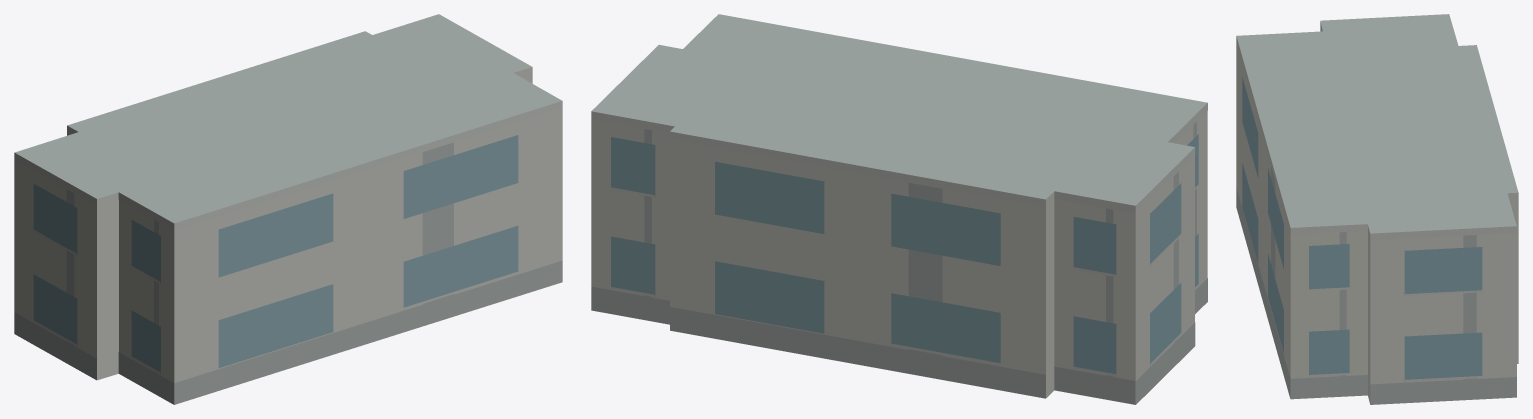
Rendered from residential-12ead752-bee3-406a-ae15-ba2ebe83ac95.glb.
The picture shows the model from 3 angles, left to right: view 1: azimuth 30°, elevation 25°; view 2: azimuth 150°, elevation 25°; view 3: azimuth 270°, elevation 25°; orthographic projection. The views are drawn at different scales.
Visible parts, largest first — view 1: residential-12ead752-bee3-406a-ae15-ba2ebe83ac95.tmp; view 2: residential-12ead752-bee3-406a-ae15-ba2ebe83ac95.tmp; view 3: residential-12ead752-bee3-406a-ae15-ba2ebe83ac95.tmp.
Part boxes in pixels (box(x1,y1,x2,y2)): residential-12ead752-bee3-406a-ae15-ba2ebe83ac95.tmp: box(14, 14, 562, 404); residential-12ead752-bee3-406a-ae15-ba2ebe83ac95.tmp: box(591, 14, 1207, 404); residential-12ead752-bee3-406a-ae15-ba2ebe83ac95.tmp: box(1236, 14, 1518, 404).
Bounding box in the file's own units: 16.78 × 6.1 × 9.12.
